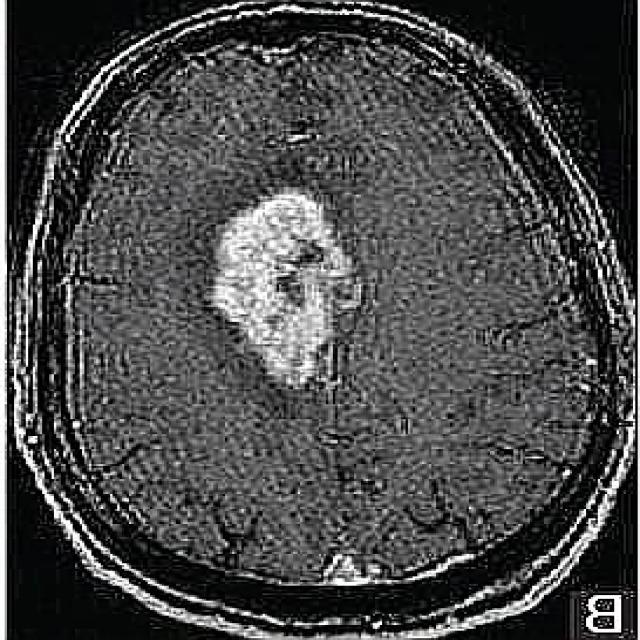Tumor-Cell: (190, 199, 374, 406)
